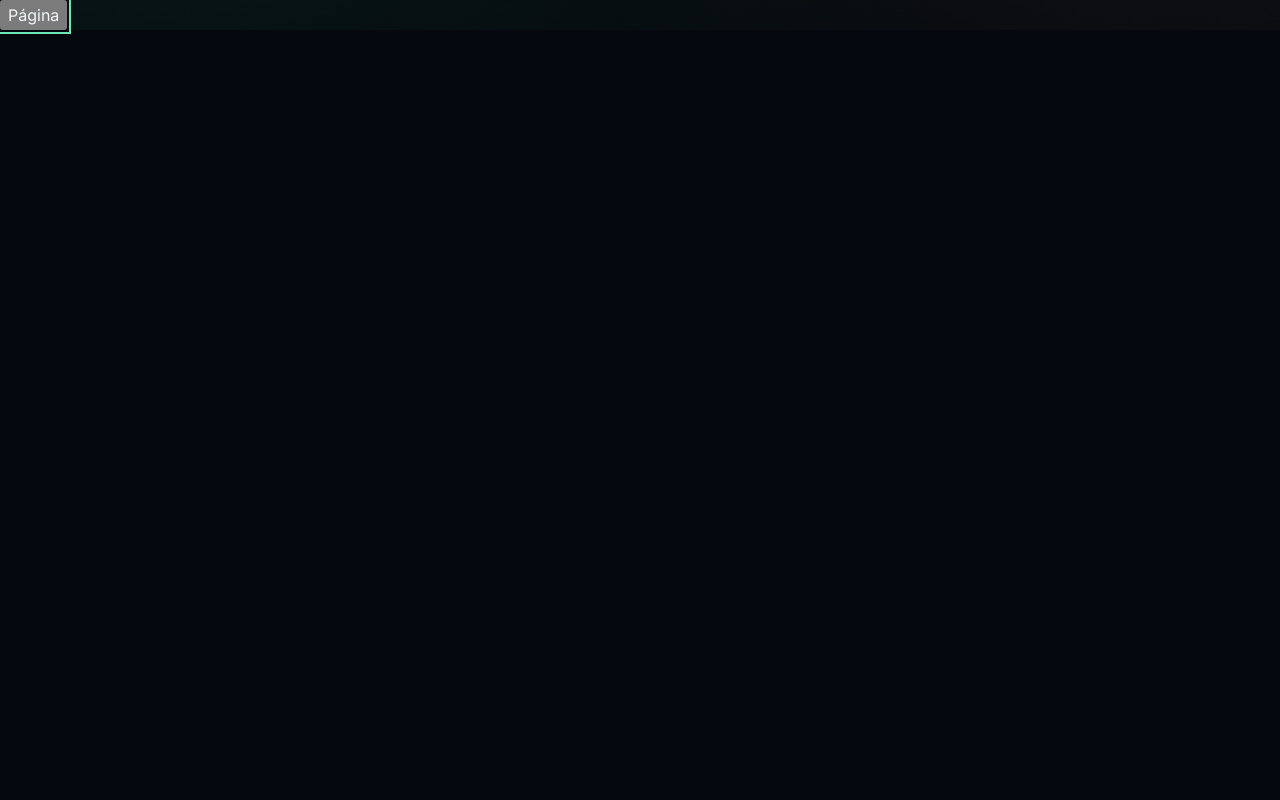
Test: CommandPalette › Ctrl+K abre; busca fuzzy agrupada; Enter executa e fecha; foco volta
Press k
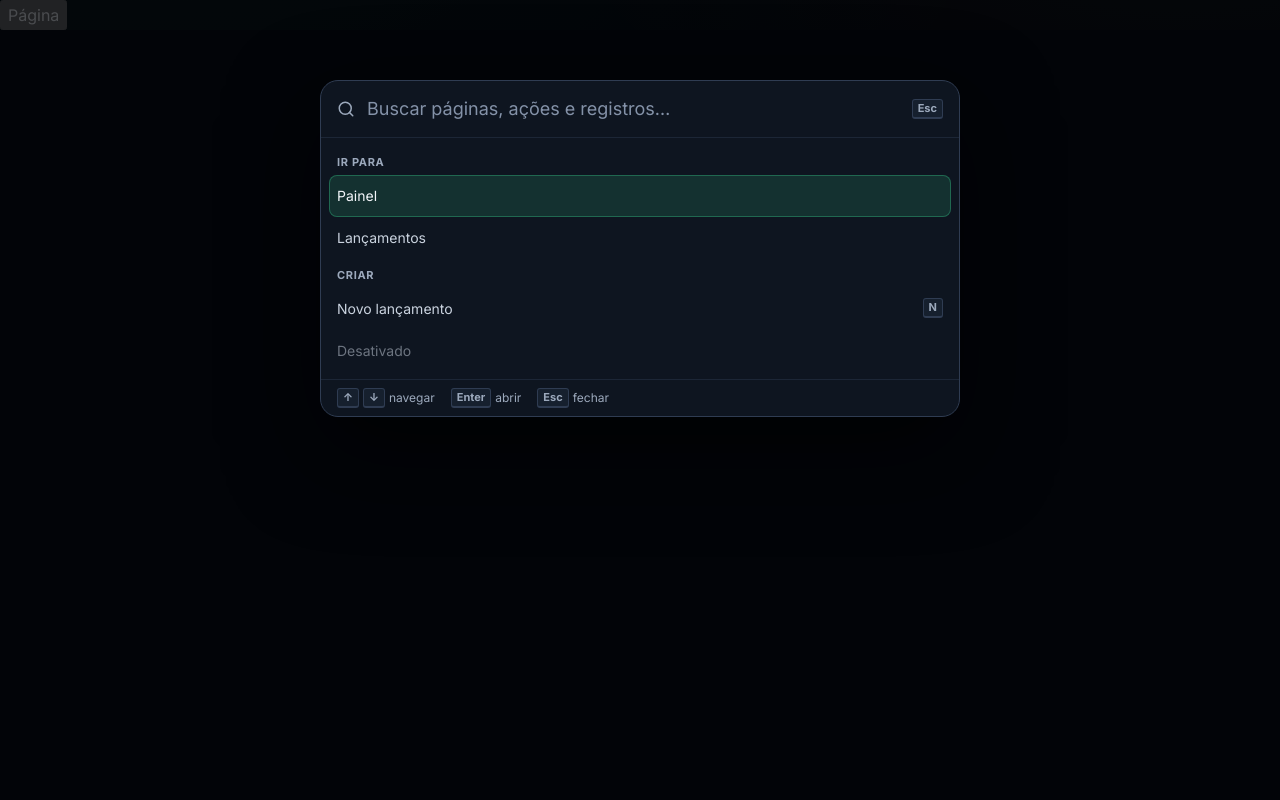
Type "lanc" into the dropdown named "Paleta de comandos" at {"x": 633, "y": 109}, box [367,81,900,137]
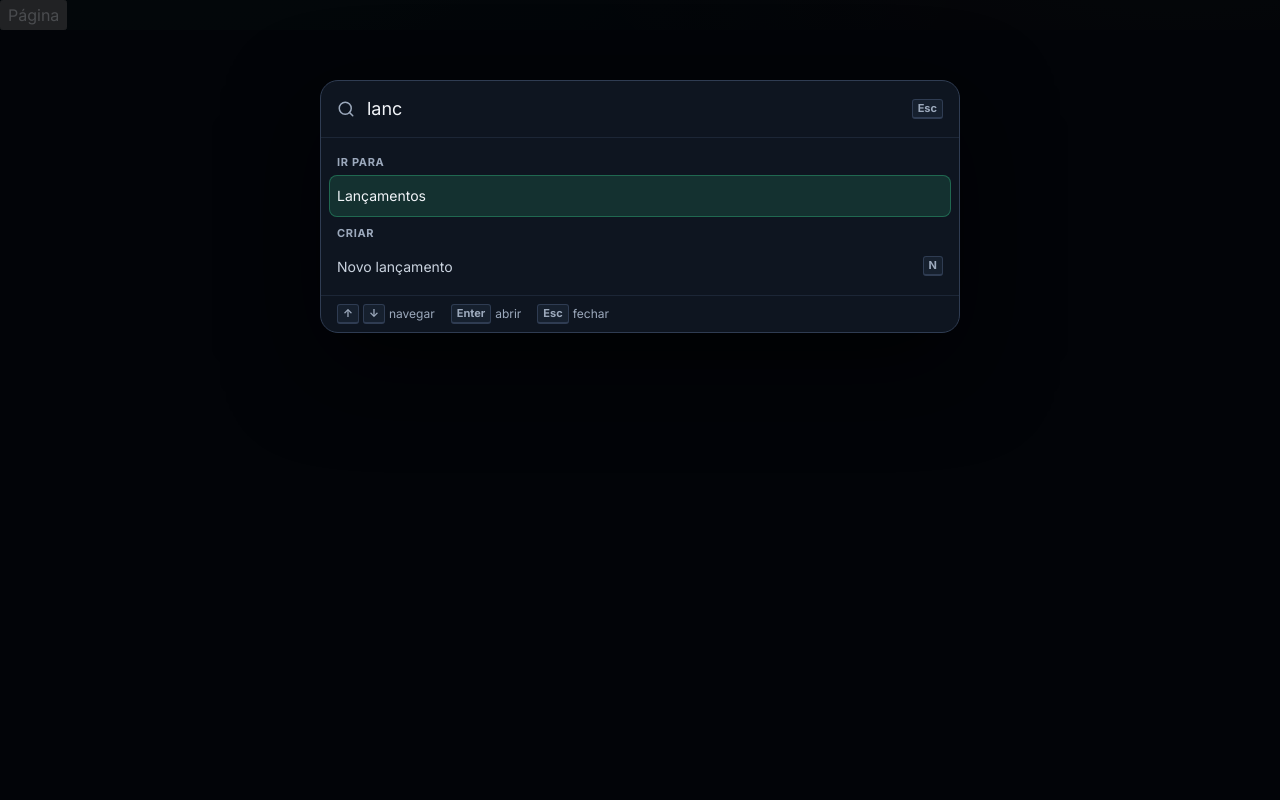
Expected: the options read "Lançamentos", "Novo lançamentoN", in this order, [329,174,951,216]; [337,256,943,276]
Replace the text in the dropdown named "Paleta de comandos" with "transacoes" at {"x": 633, "y": 109}, box [367,81,900,137]
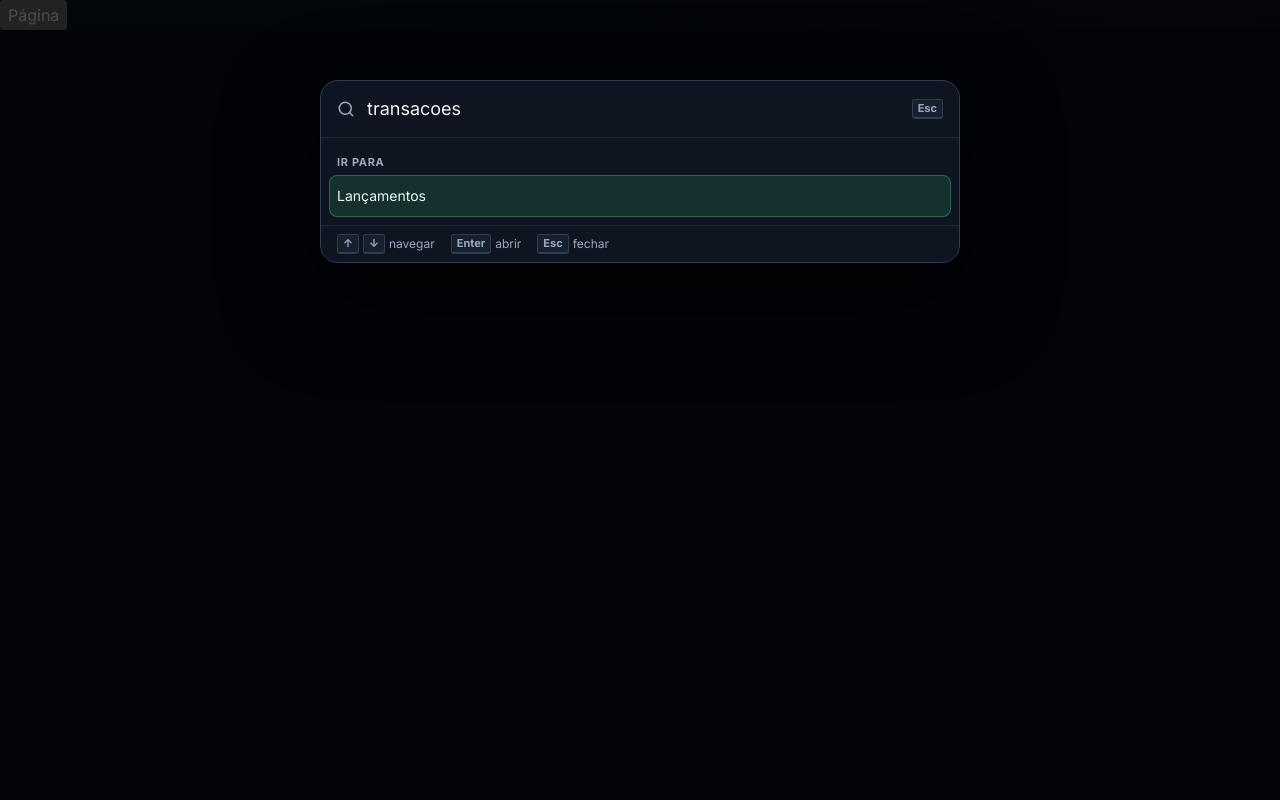
Press Enter in the dropdown named "Paleta de comandos", box [367,81,900,137]
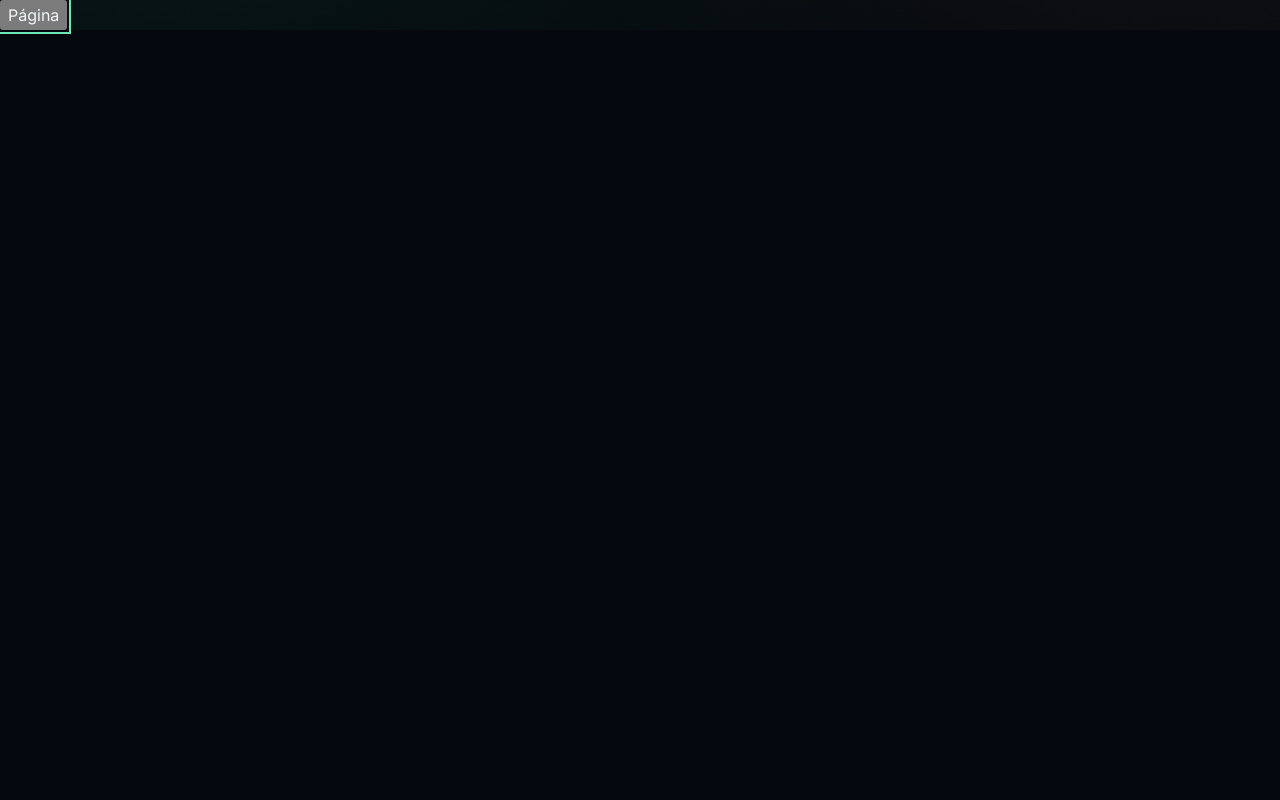
Expected: the dialog is gone
